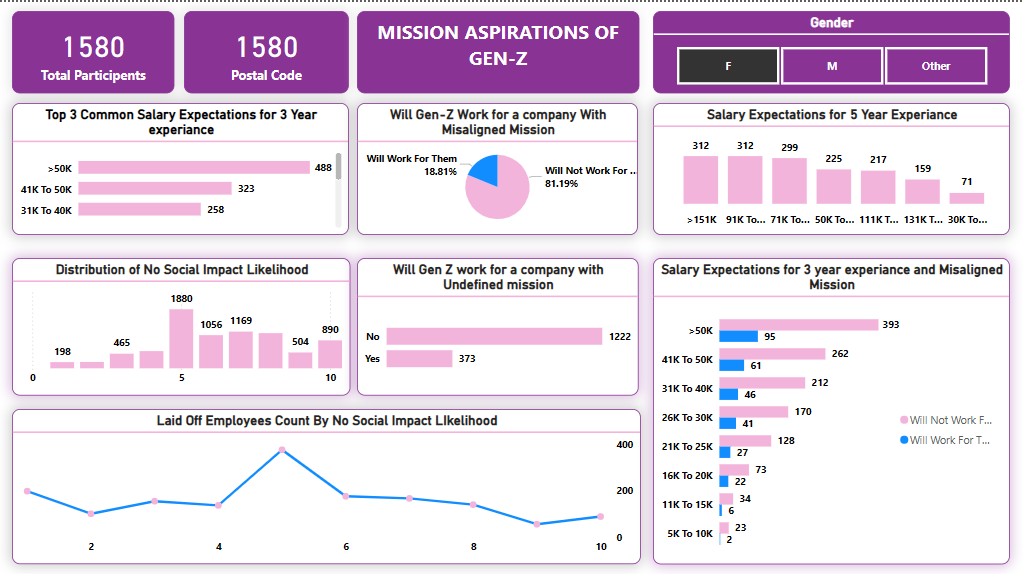

The dashboard page shown, as its layout file describes it:
{"tool":"powerbi","page":{"name":"MISSION   ASPIRATIONS","canvas":[1280,720],"ordinal":1},"visuals":[{"type":"card","fields":{"Values":["CountNonNull(Career Aspiration.Postal Code)"]},"box":[15.7,11.4,202.9,102.9],"z":0},{"type":"lineChart","title":"Laid Off Employees Count By No Social Impact LIkelihood ","fields":{"Category":["Career Aspiration.Work No Social Impact"],"Y2":["CountNonNull(Career Aspiration.Work For Company With Recent Layoffs)"]},"box":[15.7,508.6,785.7,194.3],"z":1000},{"type":"card","fields":{"Values":["CountNonNull(Career Aspiration.Postal Code)"]},"box":[231.4,11.4,205.7,102.9],"z":2000},{"type":"textbox","box":[447.1,11.4,352.9,102.9],"z":3000},{"type":"clusteredBarChart","title":"Top 3 Common Salary Expectations for 3 Year experiance","fields":{"Y":["CountNonNull(Career Aspiration.Minimum Expected Salary First 3 Years)"],"Category":["Career Aspiration.Minimum Expected Salary First 3 Years"]},"box":[16.2,126.2,421.2,165],"z":4000},{"type":"pieChart","title":"Will Gen-Z Work for a company With Misaligned Mission","fields":{"Series":["Career Aspiration.Work Misaligned Mission"],"Y":["CountNonNull(Career Aspiration.Work Misaligned Mission)"]},"box":[447.5,126.2,351.2,165],"z":5000},{"type":"clusteredColumnChart","title":"Salary Expectations for 5 Year Experiance","fields":{"Y":["CountNonNull(Career Aspiration.Minimum Expected Salary After 5 Years)"],"Category":["Career Aspiration.Minimum Expected Salary After 5 Years"]},"box":[817.5,126.2,446.2,165],"z":6000},{"type":"clusteredColumnChart","title":"Distribution of No Social Impact Likelihood","fields":{"Category":["Career Aspiration.Work No Social Impact"],"Y":["Sum(Career Aspiration.Work No Social Impact)"]},"box":[15.6,320.3,423.2,171.9],"z":7000},{"type":"clusteredBarChart","title":"Will Gen Z work for a company with Undefined mission","fields":{"Category":["Career Aspiration.Work Without Clear Mission"],"Y":["CountNonNull(Career Aspiration.Work Without Clear Mission)"]},"box":[447.9,320.3,351.6,171.9],"z":8000},{"type":"clusteredBarChart","title":"Salary Expectations for 3 year experiance and Misaligned Mission","fields":{"Category":["Career Aspiration.Minimum Expected Salary First 3 Years"],"Y":["CountNonNull(Career Aspiration.Work Misaligned Mission)"],"Series":["Career Aspiration.Work Misaligned Mission"]},"box":[817.1,320,445.7,382.9],"z":9000},{"type":"slicer","title":"Gender","fields":{"Values":["Career Aspiration.Gender"]},"box":[817.1,11.4,445.7,102.9],"z":10000}]}

Visuals, with their boxes in screenshot pixels (x1, y1, x2, y2), scaled from the page's 1280x720 canvas onto the 1023x574 screenshot:
card - CountNonNull(Career Aspiration.Postal Code): BBox(13, 9, 175, 91)
"Laid Off Employees Count By No Social Impact LIkelihood " lineChart: BBox(13, 405, 640, 560)
card - CountNonNull(Career Aspiration.Postal Code): BBox(185, 9, 349, 91)
textbox: BBox(357, 9, 639, 91)
"Top 3 Common Salary Expectations for 3 Year experiance" clusteredBarChart: BBox(13, 101, 350, 232)
"Will Gen-Z Work for a company With Misaligned Mission" pieChart: BBox(358, 101, 638, 232)
"Salary Expectations for 5 Year Experiance" clusteredColumnChart: BBox(653, 101, 1010, 232)
"Distribution of No Social Impact Likelihood" clusteredColumnChart: BBox(12, 255, 351, 392)
"Will Gen Z work for a company with Undefined mission" clusteredBarChart: BBox(358, 255, 639, 392)
"Salary Expectations for 3 year experiance and Misaligned Mission" clusteredBarChart: BBox(653, 255, 1009, 560)
"Gender" slicer: BBox(653, 9, 1009, 91)
